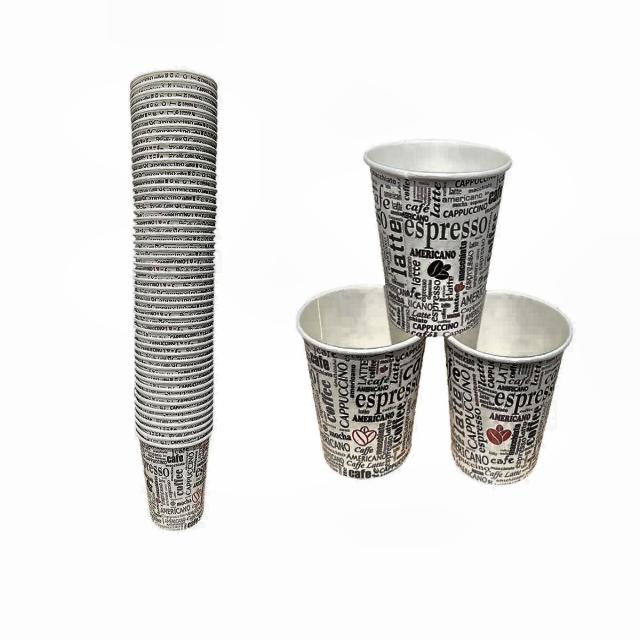Cup: (118, 65, 240, 529), (358, 132, 512, 341), (440, 276, 580, 502), (297, 280, 428, 511)
